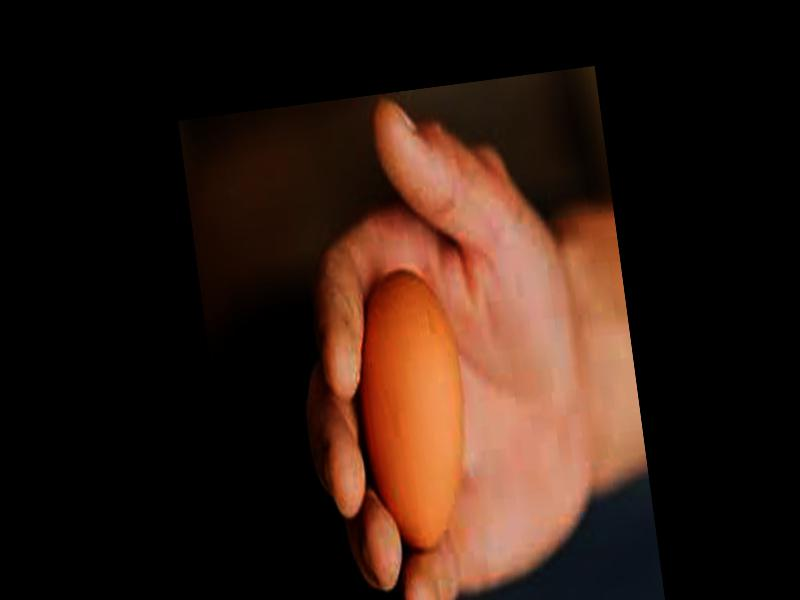Eggs: (346, 268, 481, 557)
